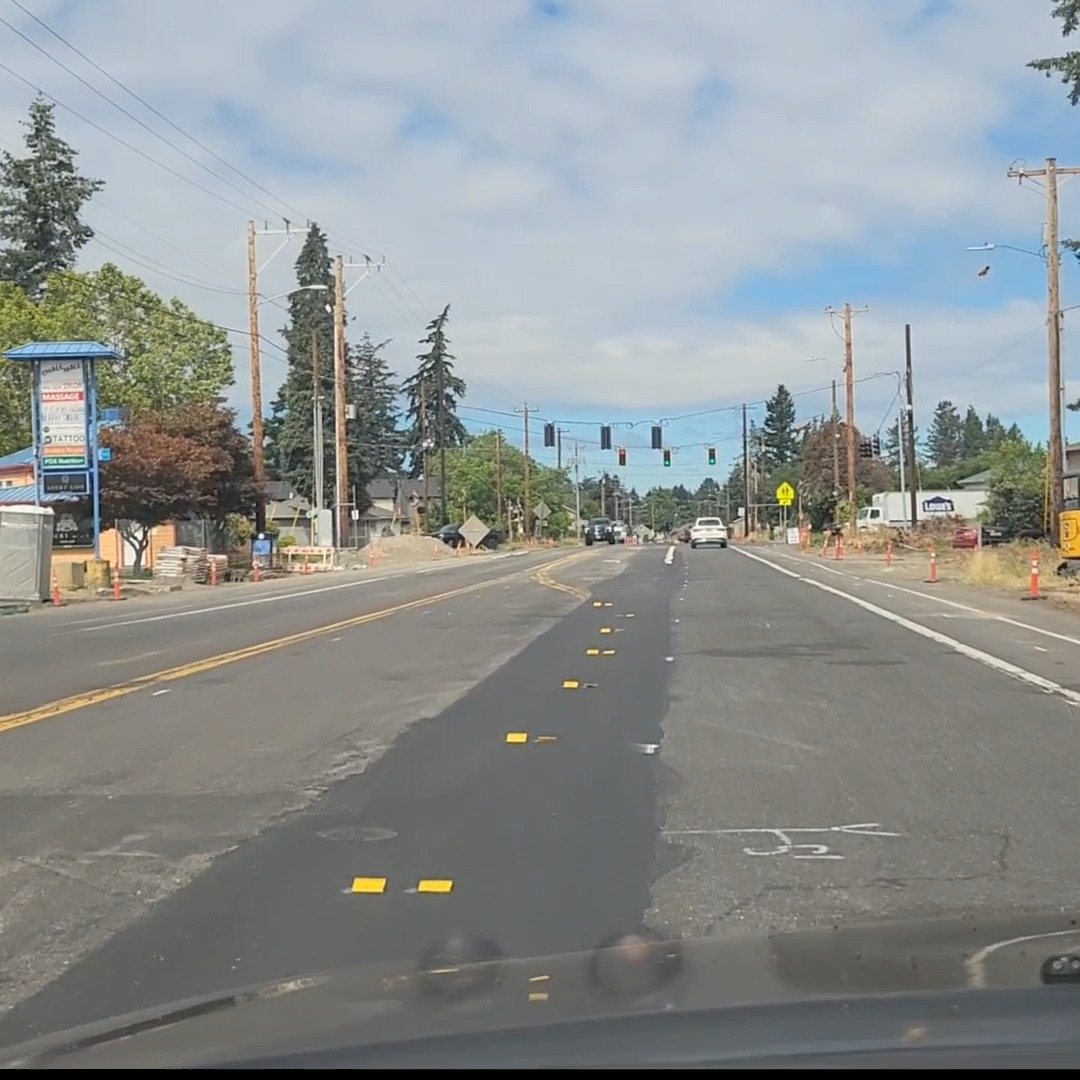car: (429, 521, 513, 553), (689, 516, 730, 547), (952, 525, 1008, 547), (582, 517, 616, 545)
crosswalk-sign: (776, 482, 794, 505)
delineator: (923, 543, 941, 582), (50, 570, 66, 606), (1028, 551, 1040, 598), (111, 566, 122, 599), (833, 532, 842, 559), (209, 558, 217, 585), (885, 540, 893, 566), (251, 559, 260, 581), (367, 544, 376, 566), (854, 529, 861, 551), (453, 539, 461, 557)
